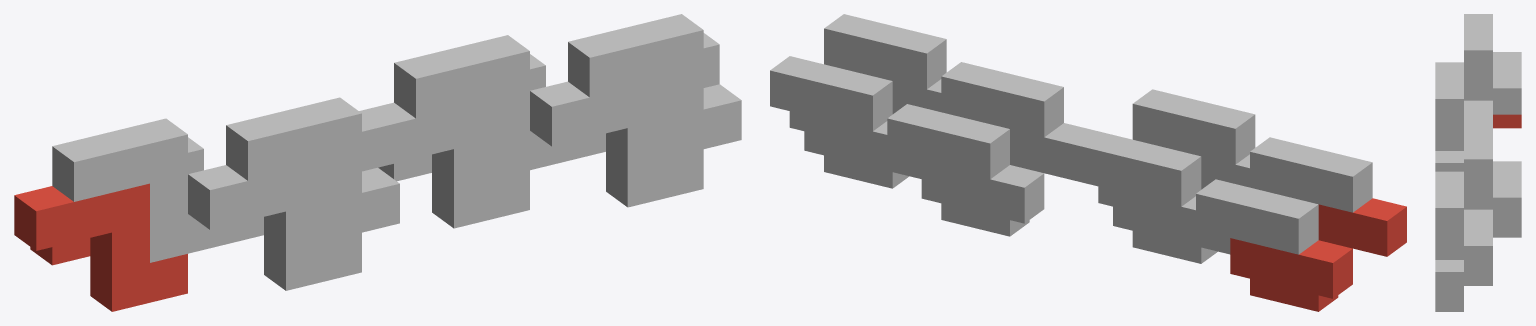
Rendered from tiling.obj.
3 views of the same model, side by side, from view 1: azimuth 30°, elevation 25°; view 2: azimuth 150°, elevation 25°; view 3: azimuth 270°, elevation 25° (orthographic). The views are drawn at different scales.
Parts seen in each view (by area): view 1: copy_1_domain_8, copy_1_domain_4, copy_1_domain_1, copy_1_domain_6, copy_1_domain_2, copy_1_domain_3, copy_1_domain_7, copy_1_domain_5; view 2: copy_1_domain_4, copy_1_domain_3, copy_1_domain_7, copy_1_domain_8, copy_1_domain_1, copy_1_domain_5, copy_1_domain_6, copy_1_domain_2; view 3: copy_1_domain_8, copy_1_domain_3, copy_1_domain_7, copy_1_domain_4, copy_1_domain_6, copy_1_domain_1, copy_1_domain_5.
Boxes of the visible parts, x1,y1,x2,y2 form: copy_1_domain_8: (568, 14, 741, 158); copy_1_domain_4: (226, 97, 399, 241); copy_1_domain_1: (14, 183, 187, 311); copy_1_domain_6: (530, 79, 703, 207); copy_1_domain_2: (188, 162, 361, 290); copy_1_domain_3: (52, 118, 225, 262); copy_1_domain_7: (394, 35, 567, 179); copy_1_domain_5: (359, 100, 529, 228); copy_1_domain_4: (1078, 89, 1255, 206); copy_1_domain_3: (1196, 137, 1372, 254); copy_1_domain_7: (887, 62, 1063, 179); copy_1_domain_8: (770, 14, 946, 131); copy_1_domain_1: (1230, 198, 1406, 311); copy_1_domain_5: (921, 123, 1097, 236); copy_1_domain_6: (804, 79, 941, 188); copy_1_domain_2: (1113, 154, 1249, 263); copy_1_domain_8: (1435, 171, 1492, 297); copy_1_domain_3: (1464, 14, 1521, 114); copy_1_domain_7: (1464, 123, 1521, 223); copy_1_domain_4: (1435, 62, 1492, 171); copy_1_domain_6: (1435, 272, 1492, 311); copy_1_domain_1: (1493, 114, 1521, 128); copy_1_domain_5: (1493, 223, 1521, 237).
Size of the model in its own units: 18 by 4 by 3.
